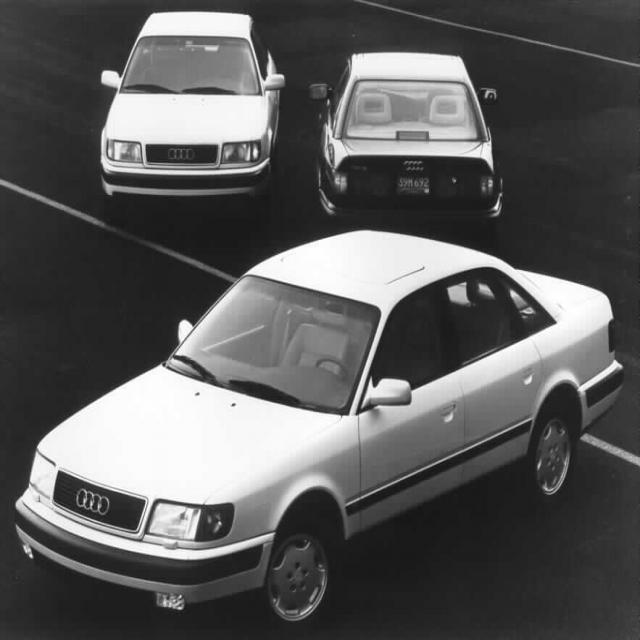car: (11, 221, 640, 640), (81, 6, 294, 214), (312, 26, 514, 225)
